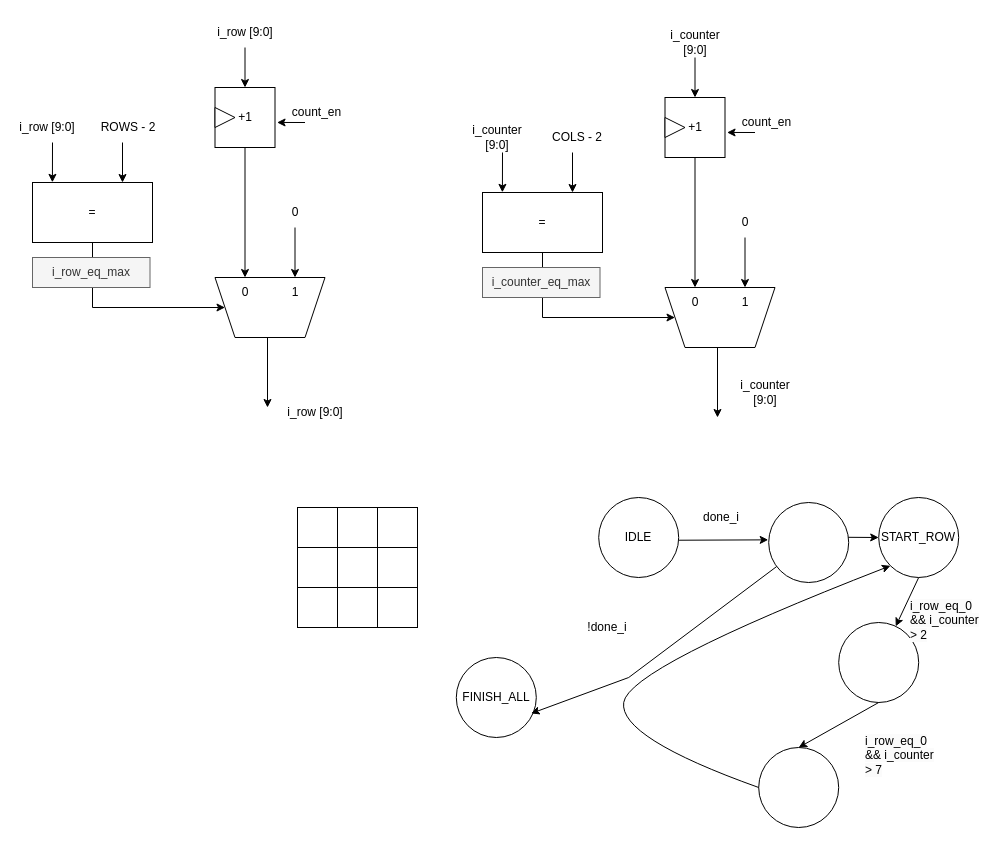
This 1001x845 diagram has some shape labels left out. Each missing label, with the box of its shape:
CUM_EN: (758, 746, 839, 828)
START: (768, 502, 849, 582)
SUM_EN: (838, 622, 919, 702)
